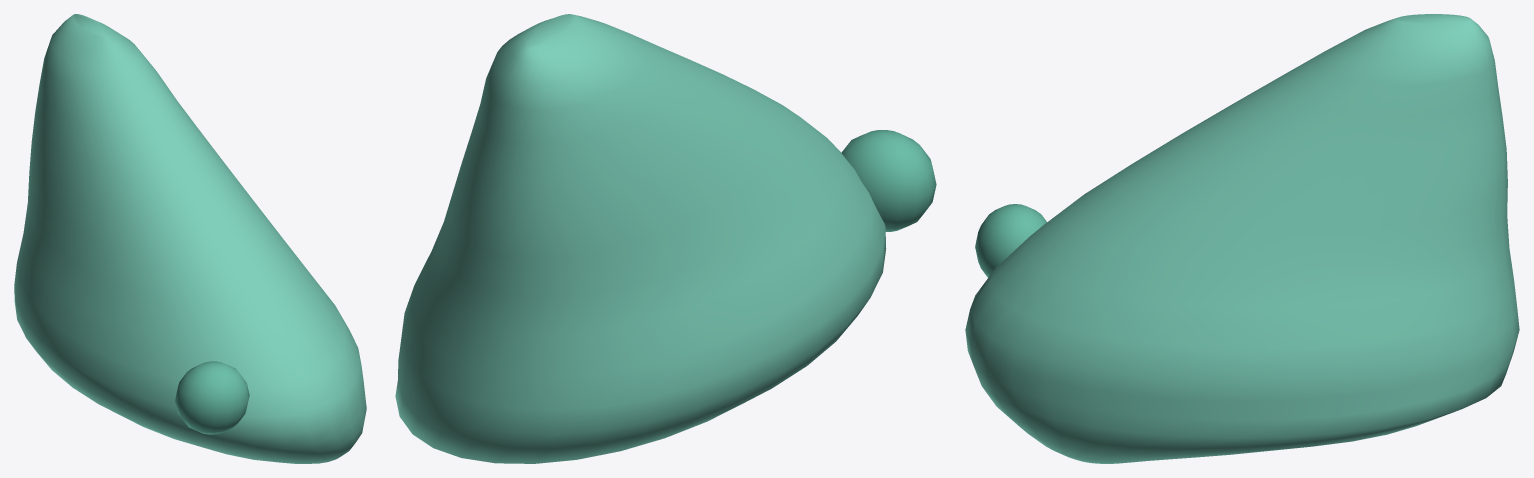
File: witch-nose.glb
3 renders of one model, left to right at view 1: azimuth 30°, elevation 25°; view 2: azimuth 150°, elevation 25°; view 3: azimuth 270°, elevation 25°, orthographic. The views are drawn at different scales.
Parts seen in each view (by area): view 1: mint-nose-skin, one-soft-wart; view 2: mint-nose-skin, one-soft-wart; view 3: mint-nose-skin, one-soft-wart.
Boxes of the visible parts, x1,y1,x2,y2 form: mint-nose-skin: (14, 14, 366, 463); one-soft-wart: (175, 361, 249, 434); mint-nose-skin: (395, 14, 886, 463); one-soft-wart: (841, 130, 936, 231); mint-nose-skin: (965, 14, 1519, 463); one-soft-wart: (975, 204, 1046, 277).
Bounding box in the file's own units: 0.4032 × 0.51 × 0.6484.
